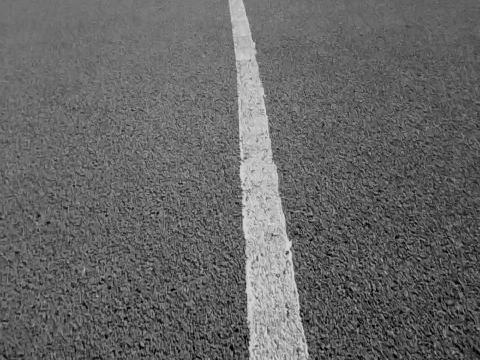Lines: (228, 0, 313, 360)
